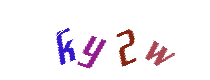2: (83, 0, 163, 80)
K: (24, 0, 104, 80)
W: (86, 0, 166, 80)
Y: (64, 0, 144, 80)
